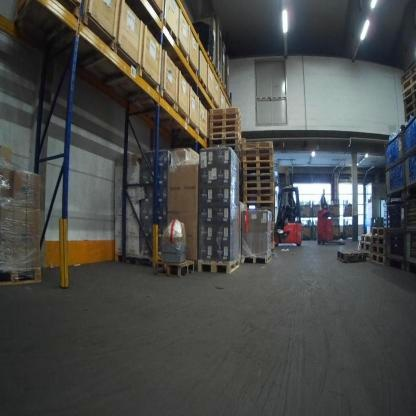pallets: (243, 135, 277, 210), (208, 107, 242, 147), (191, 256, 245, 277), (400, 60, 415, 121), (359, 228, 384, 264), (234, 249, 276, 268), (0, 268, 42, 286), (384, 251, 415, 275), (162, 259, 195, 276), (121, 255, 156, 266)
